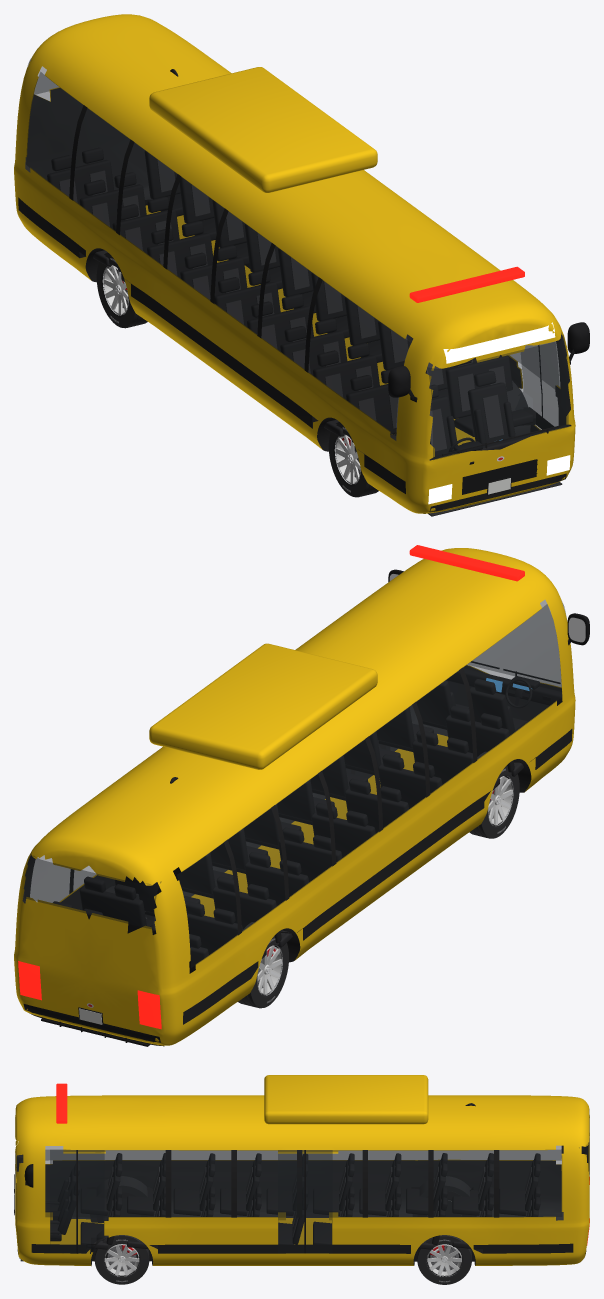
File: amboolabus.glb
3 views of the same model, one above another, from view 1: azimuth 30°, elevation 25°; view 2: azimuth 150°, elevation 25°; view 3: azimuth 270°, elevation 25° (orthographic). The views are drawn at different scales.
Visible parts, largest first — view 1: Body, Wheel_RR, Wheel_FR; view 2: Body, Wheel_RR, Wheel_FR; view 3: Body, Wheel_RL, Wheel_FL.
Boxes of the visible parts, x1,y1,x2,y2 form: Body: (14,14,589,516); Wheel_RR: (96,252,147,328); Wheel_FR: (328,421,378,497); Body: (14,545,589,1046); Wheel_RR: (238,934,288,1008); Wheel_FR: (469,765,519,838); Body: (14,1075,589,1266); Wheel_RL: (417,1235,471,1284); Wheel_FL: (94,1235,149,1284).
Bounding box in the file's own units: 2.94 × 3.35 × 10.53.
